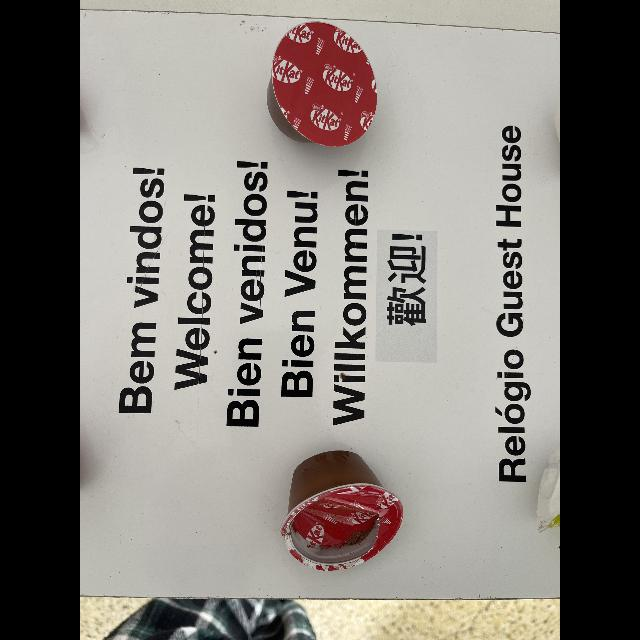damaged_capsule: (277, 444, 417, 574)
intact_capsule: (260, 19, 392, 153)
